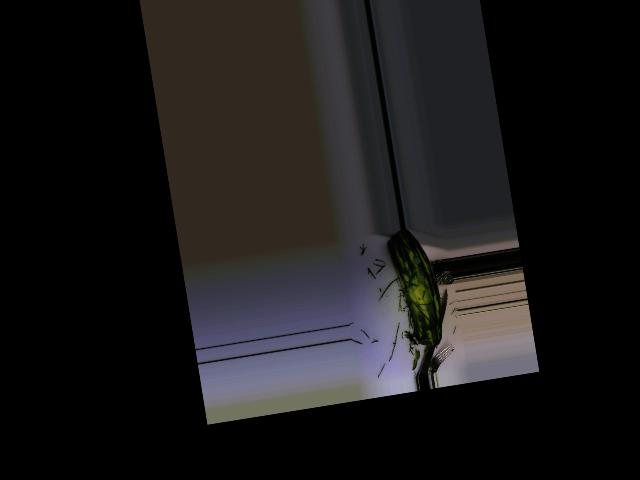cucumber: (385, 226, 447, 351)
